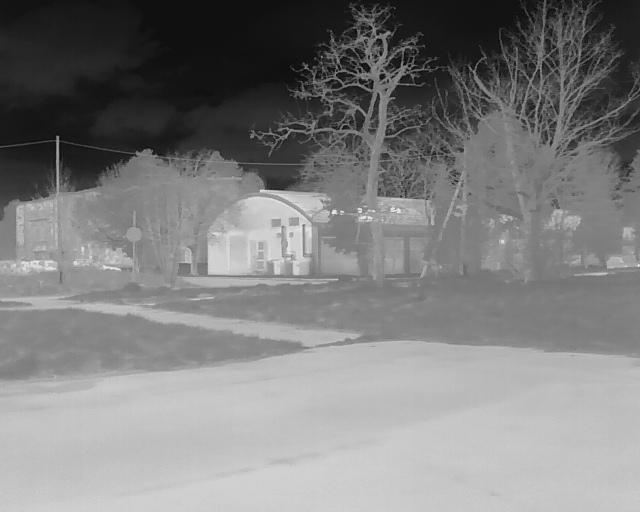drone: (324, 193, 411, 253)
